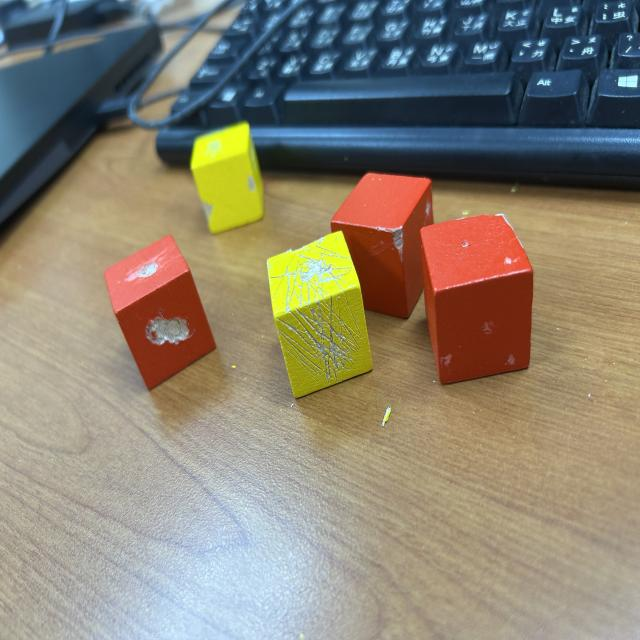broken: (420, 214, 532, 386), (265, 231, 374, 400), (104, 234, 216, 391), (330, 172, 436, 320), (190, 121, 265, 235)
